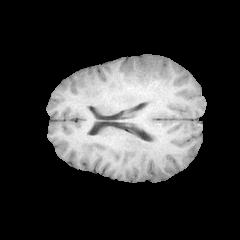glioma: (123, 58, 165, 99)
